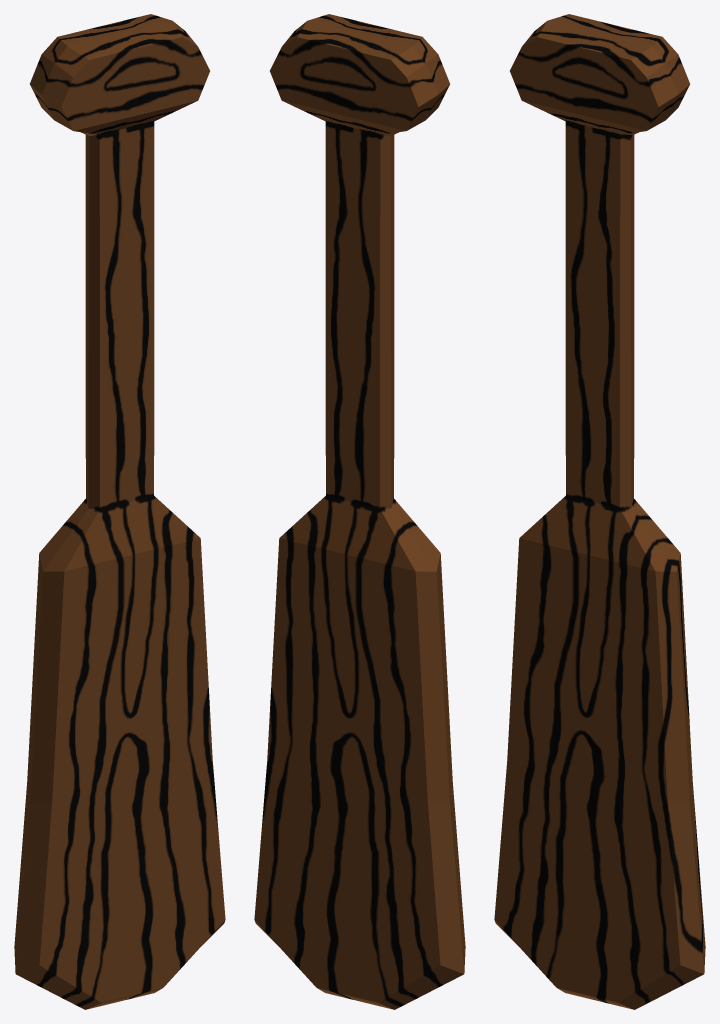
The model's file is Paddle_A.FBX.
The picture shows the model from 3 angles, left to right: view 1: azimuth 30°, elevation 25°; view 2: azimuth 150°, elevation 25°; view 3: azimuth 330°, elevation 25°; orthographic projection.
Parts seen in each view (by area): view 1: Paddle_A; view 2: Paddle_A; view 3: Paddle_A.
Boxes of the visible parts, left/top/right/bottom form: Paddle_A: left=14, top=14, right=225, bottom=1009; Paddle_A: left=254, top=14, right=465, bottom=1009; Paddle_A: left=494, top=14, right=705, bottom=1009.
Size of the model in its own units: 184 by 48.26 by 814.
1 material, 1 textured.
